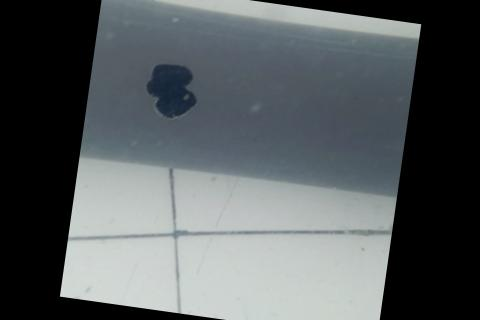kebocoran: (138, 57, 204, 123)
